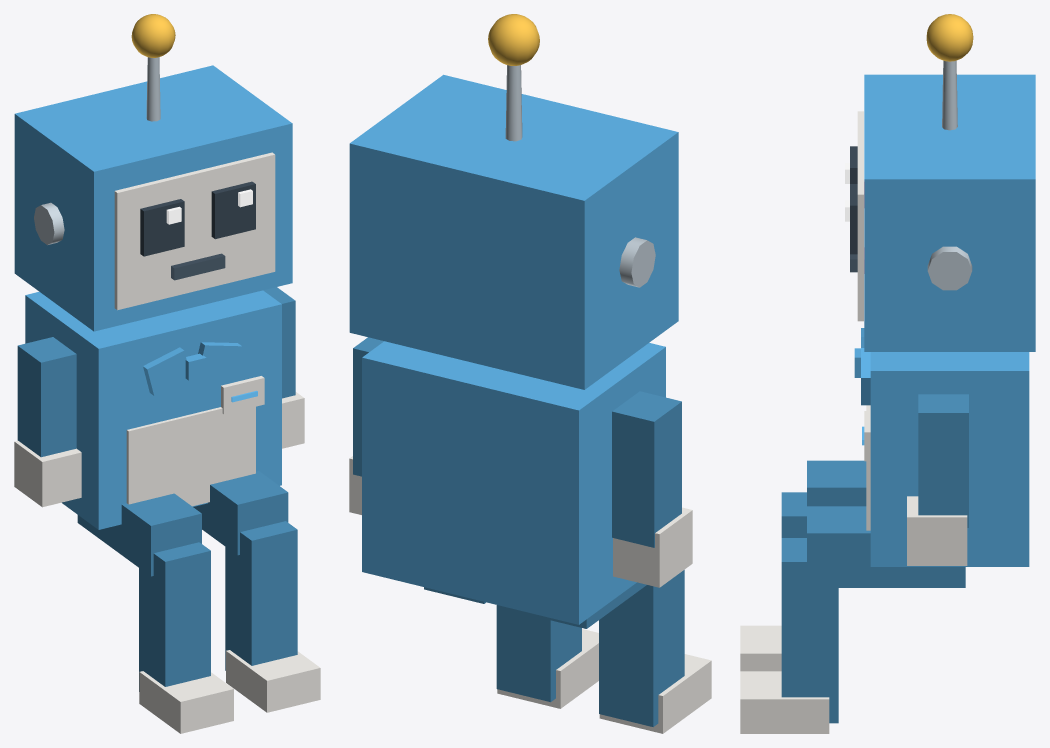
The model's file is worker-robot.glb.
3 renders of one model, left to right at view 1: azimuth 30°, elevation 25°; view 2: azimuth 150°, elevation 25°; view 3: azimuth 270°, elevation 25°, orthographic. The views are drawn at different scales.
Parts seen in each view (by area): view 1: cranium, chest, facePlate, belly, shinR, shinL, upperArmL, thighL, thighR, footL, footR, handL (+12 smaller); view 2: cranium, chest, shinL, upperArmL, shinR, handL, footL, footR, antennaBall, earBoltL, upperArmR, antennaStalk (+1 smaller); view 3: cranium, chest, shinR, thighR, upperArmR, footR, handR, thighL, footL, antennaBall, earBoltR, facePlate (+4 smaller).
Part boxes in pixels (bbox=[...]): cranium: bbox=[14, 65, 292, 331]; chest: bbox=[25, 290, 281, 529]; facePlate: bbox=[114, 152, 275, 310]; belly: bbox=[126, 406, 255, 506]; shinR: bbox=[225, 521, 297, 670]; shinL: bbox=[139, 542, 210, 691]; upperArmL: bbox=[17, 337, 76, 457]; thighL: bbox=[77, 493, 201, 576]; thighR: bbox=[193, 471, 288, 555]; footL: bbox=[139, 671, 233, 733]; footR: bbox=[226, 650, 320, 712]; handL: bbox=[14, 441, 81, 507]; cranium: bbox=[349, 74, 678, 389]; chest: bbox=[362, 341, 665, 624]; shinL: bbox=[599, 570, 684, 726]; upperArmL: bbox=[612, 391, 681, 547]; shinR: bbox=[496, 605, 581, 702]; handL: bbox=[613, 507, 692, 587]; footL: bbox=[599, 654, 711, 733]; footR: bbox=[497, 629, 598, 708]; antennaBall: bbox=[488, 14, 539, 65]; earBoltL: bbox=[619, 237, 655, 287]; upperArmR: bbox=[353, 337, 383, 476]; antennaStalk: bbox=[505, 65, 522, 141]; cranium: bbox=[864, 74, 1035, 351]; chest: bbox=[870, 352, 1029, 566]; shinR: bbox=[781, 538, 838, 723]; thighR: bbox=[807, 506, 965, 587]; upperArmR: bbox=[918, 394, 968, 527]; footR: bbox=[740, 671, 829, 733]; handR: bbox=[907, 496, 967, 565]; thighL: bbox=[807, 460, 866, 506]; footL: bbox=[740, 625, 781, 671]; antennaBall: bbox=[926, 14, 973, 61]; earBoltR: bbox=[927, 246, 972, 290]; facePlate: bbox=[857, 111, 863, 321].
Bounding box in the file's own units: 1.03 × 2.37 × 0.93.
